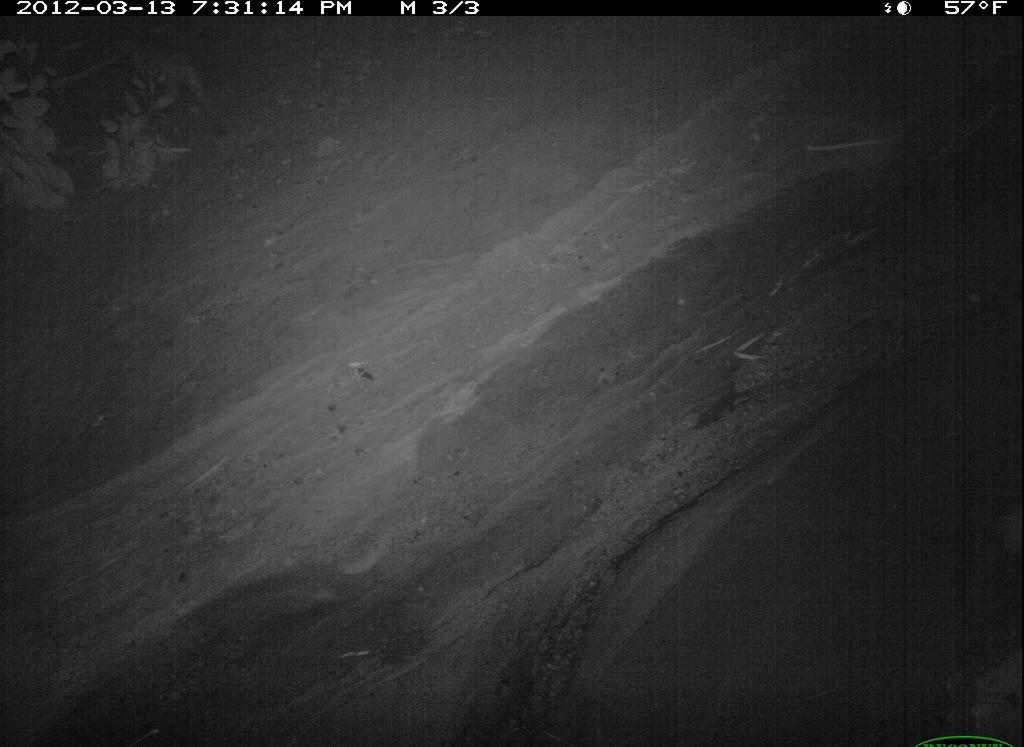bobcat: (228, 46, 480, 298)
